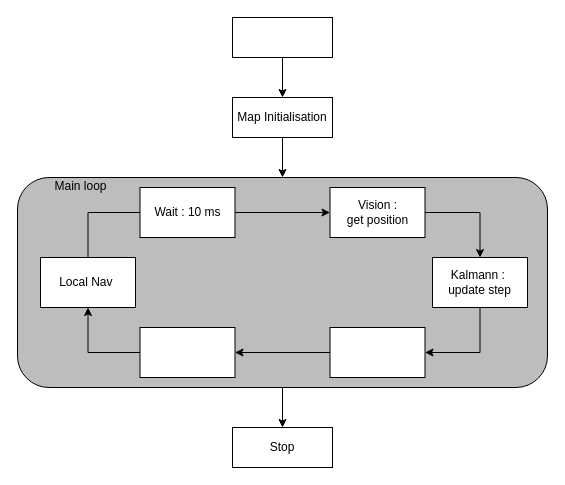
Some shapes in this 565 by 485 pixel diagram are drawn without their labels. The shapes that lost their labels are listed below. From the top down, each one's centre as x and y in pixels, then its label:
At point 282,37: "Imports".
At point 187,352: "Motion Control : P-controller".
At point 377,352: "Global Nav : update next goal".
